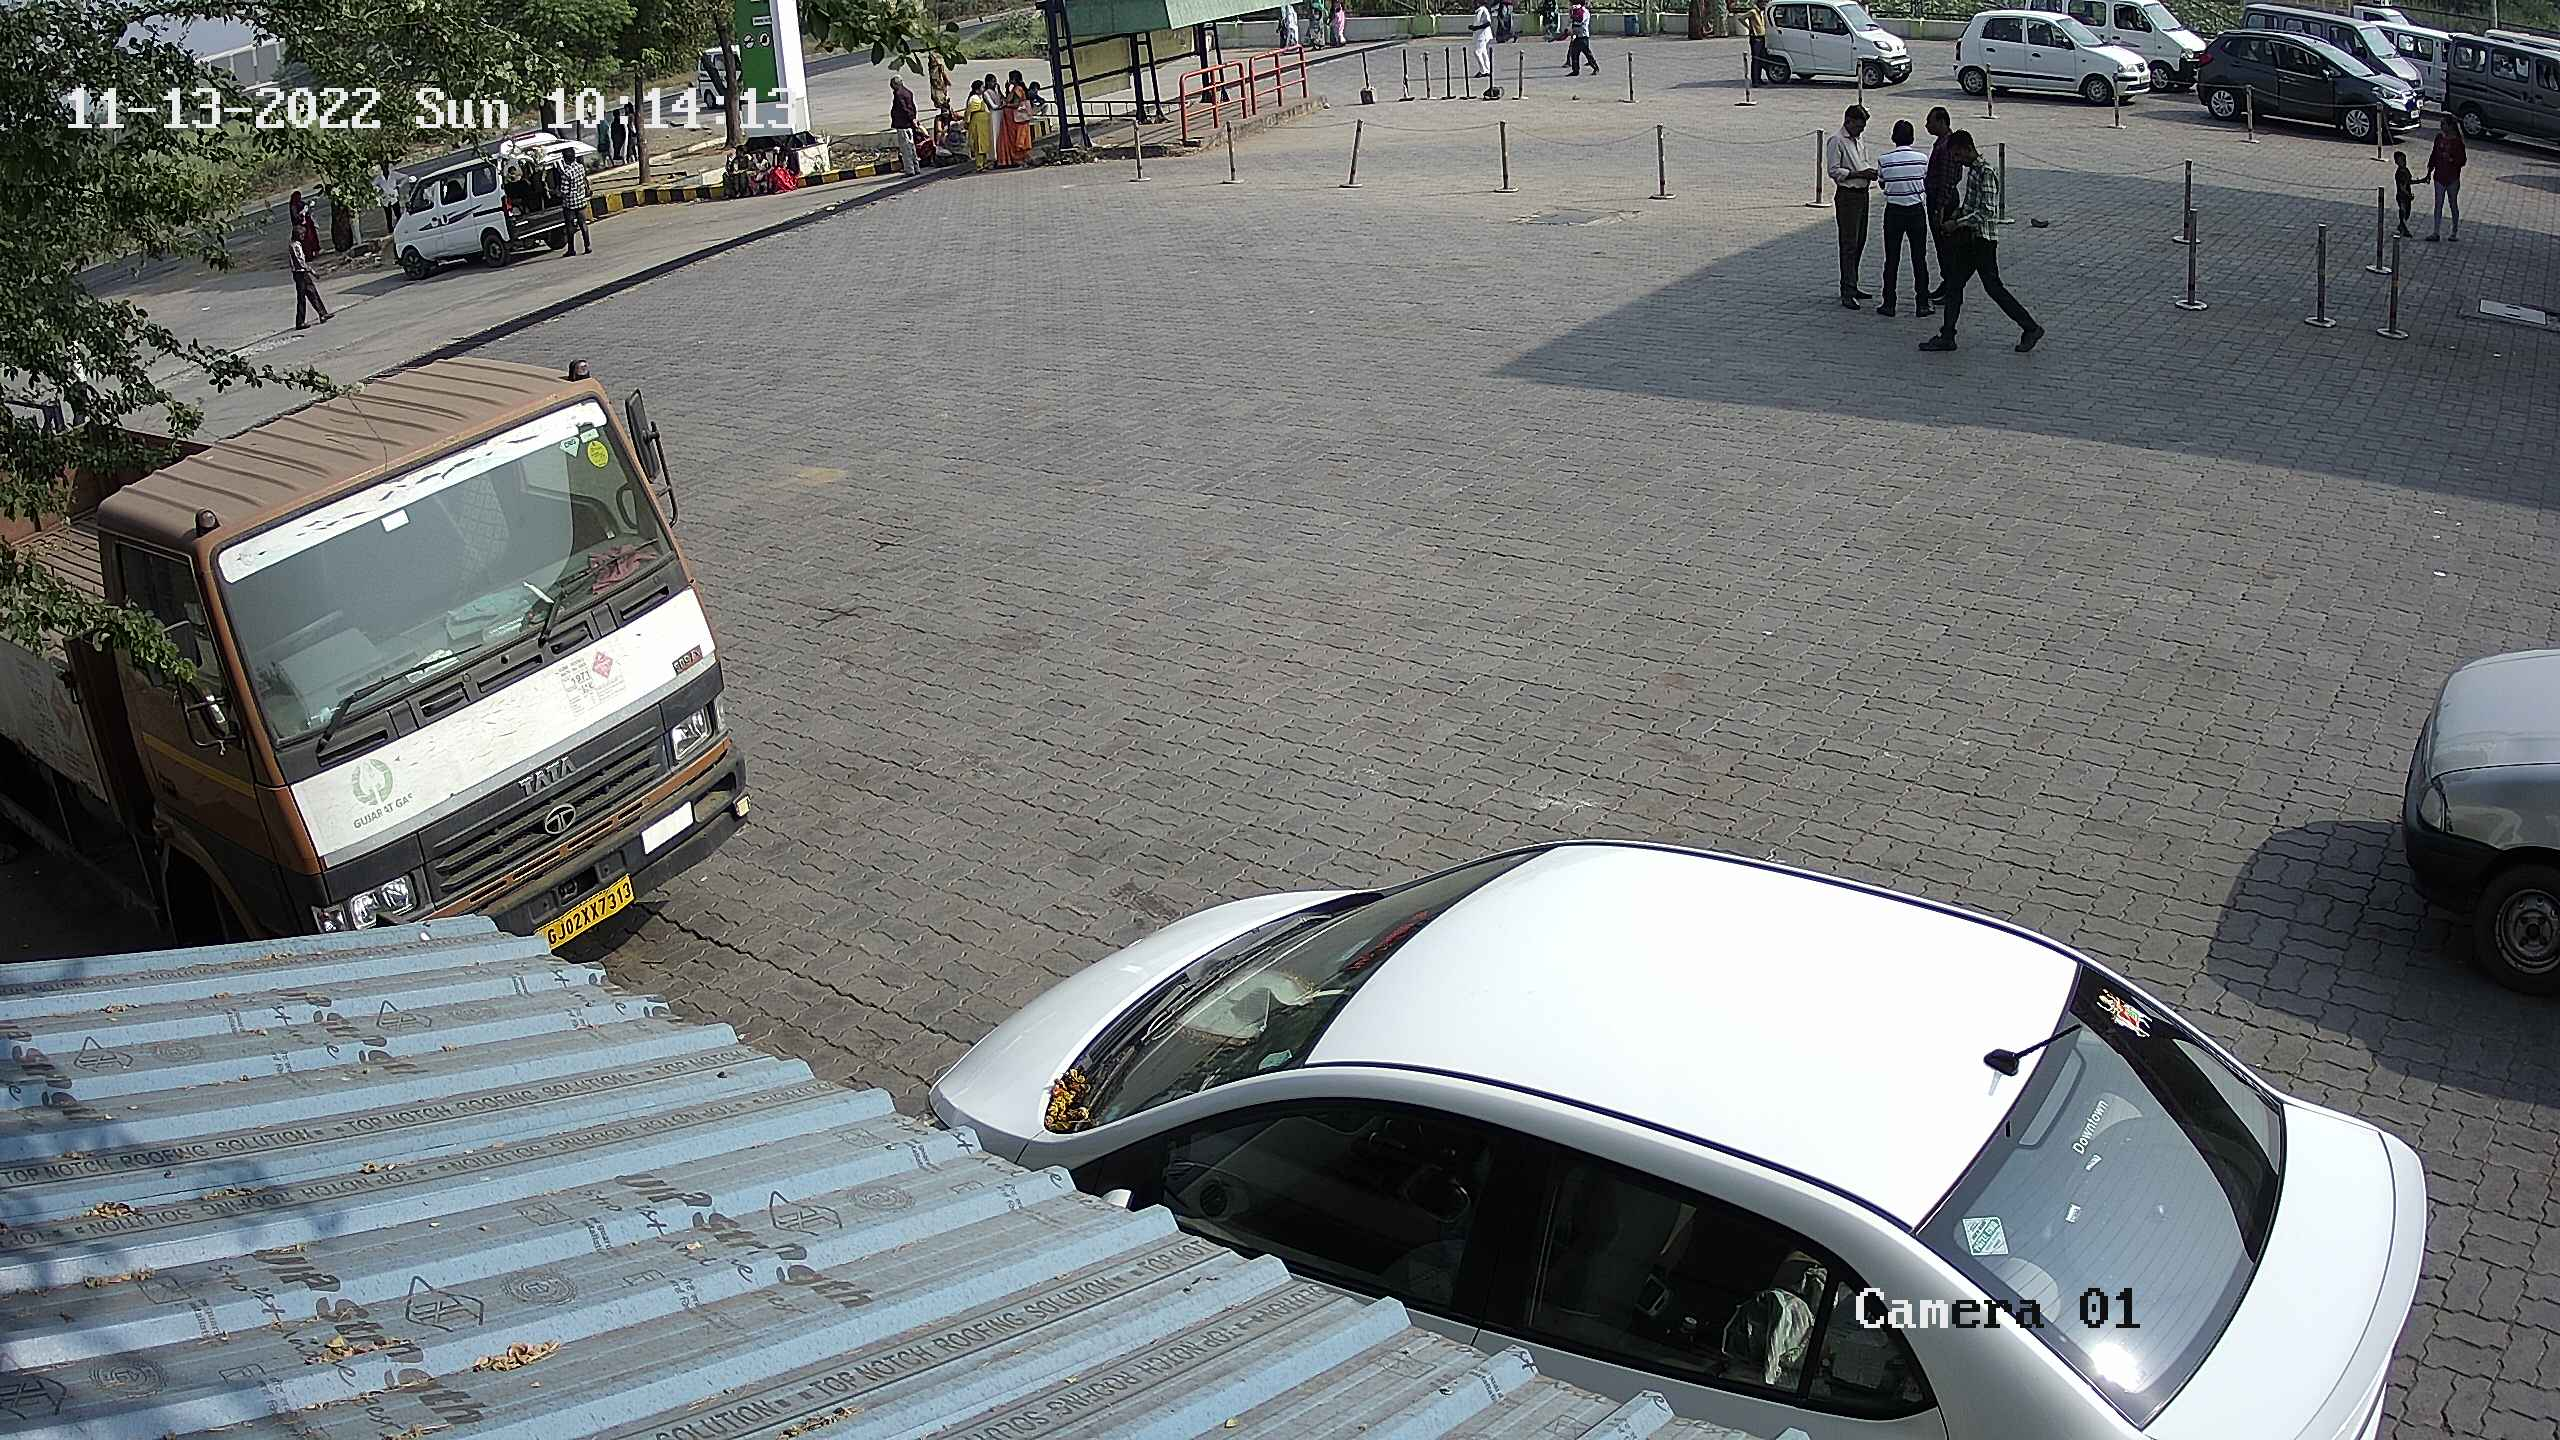Car: (900, 819, 2451, 1435), (2391, 626, 2556, 1006), (369, 135, 596, 288), (2191, 23, 2432, 146), (2231, 0, 2439, 114), (1990, 0, 2212, 98), (1950, 4, 2157, 107), (1727, 0, 1925, 97), (2433, 16, 2558, 162), (2370, 11, 2463, 120)
HMV: (0, 350, 763, 964)
